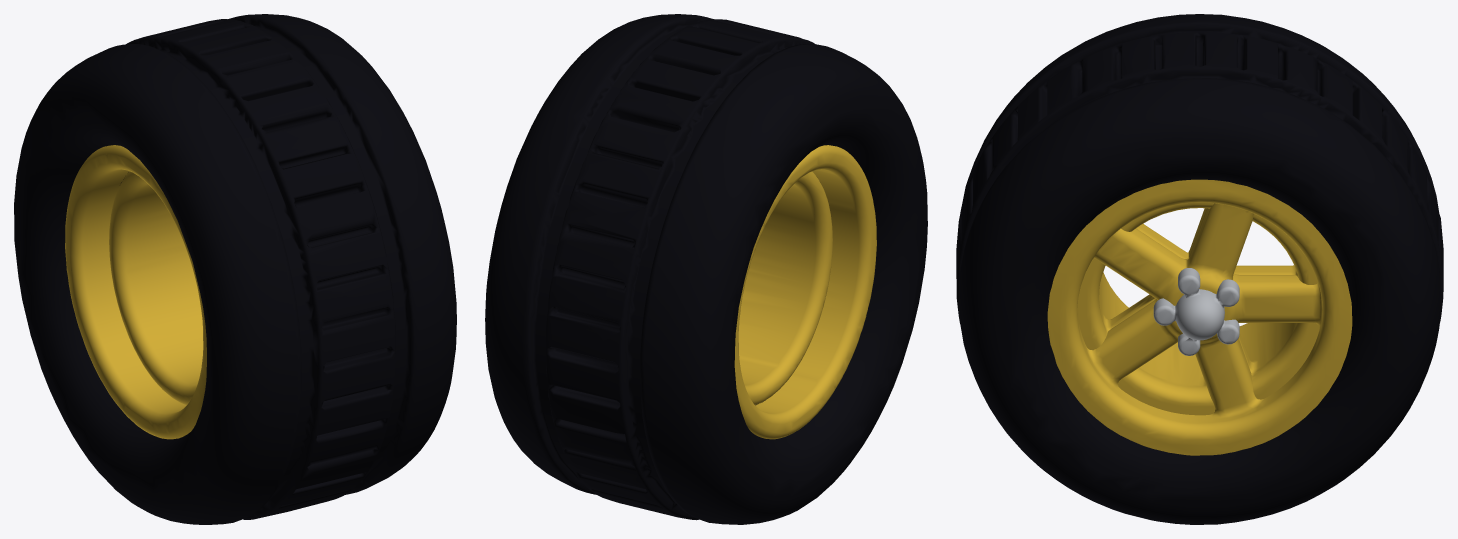
File: standard.glb
3 renders of one model, left to right at view 1: azimuth 30°, elevation 25°; view 2: azimuth 150°, elevation 25°; view 3: azimuth 270°, elevation 25°, orthographic.
Visible parts, largest first — view 1: wheel_rear, wheel_front; view 2: wheel_rear, wheel_front; view 3: wheel_rear, wheel_front.
Part boxes in pixels (x1,y1,x2,y2): wheel_rear: (14,14,456,524); wheel_front: (109,171,203,405); wheel_rear: (485,14,927,524); wheel_front: (738,171,832,405); wheel_rear: (956,14,1443,524); wheel_front: (1077,202,1319,415).
Size of the model in its own units: 0.2664 by 0.4794 by 0.4794.
